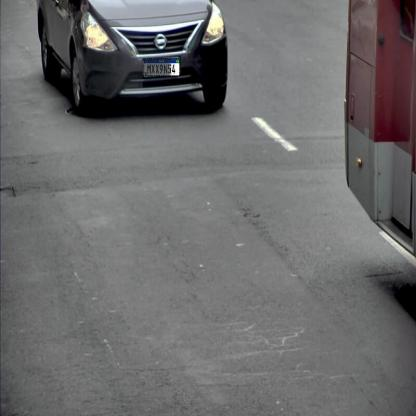PlacaM: (143, 58, 180, 76)
